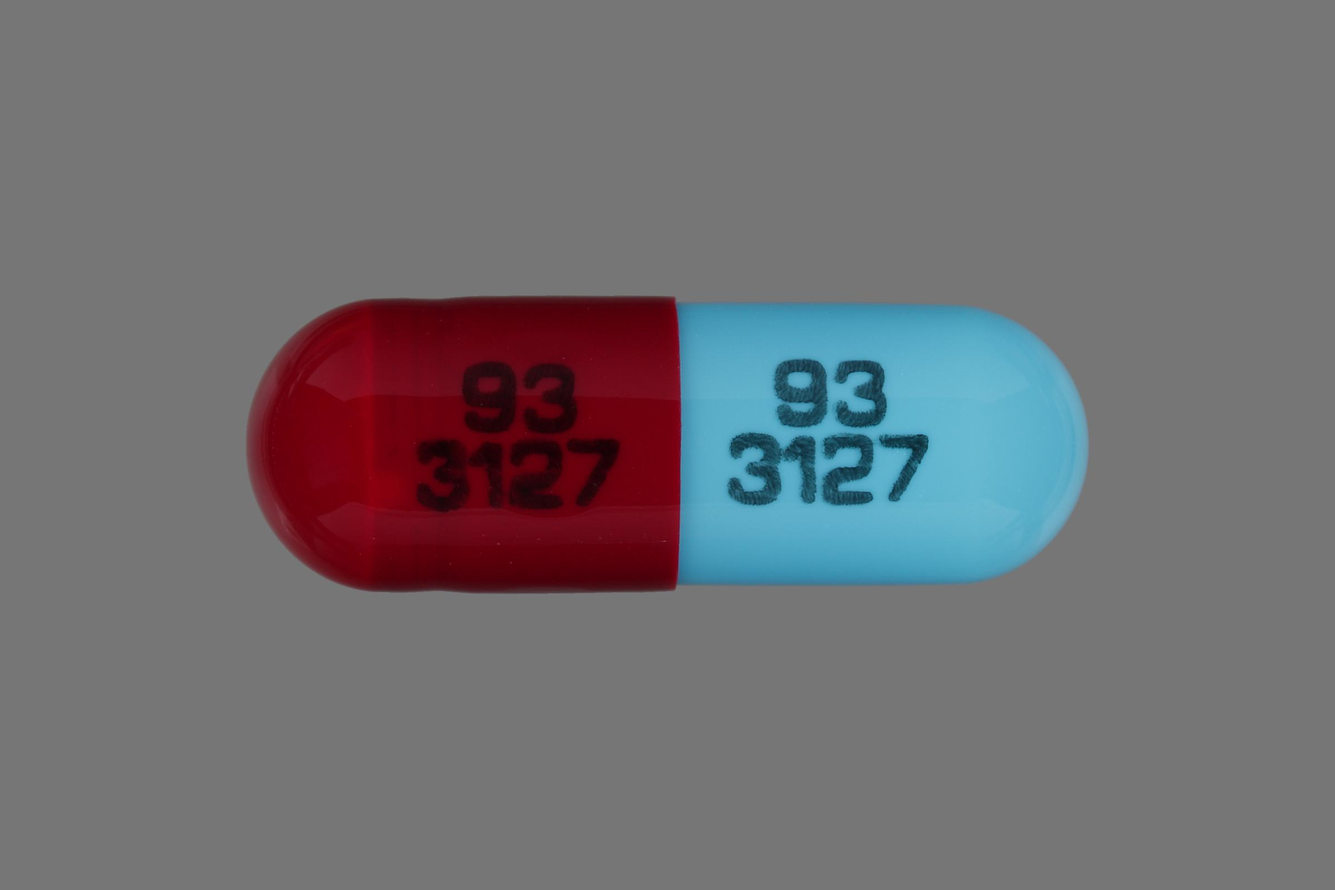Pill: (239, 289, 1098, 597)
